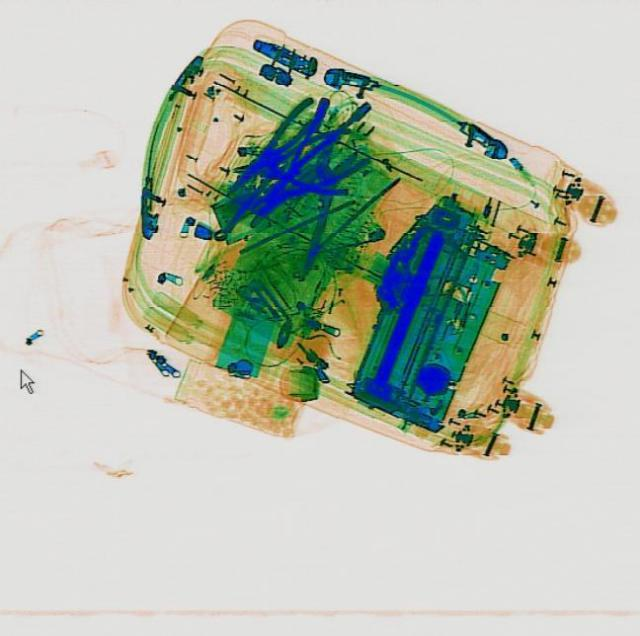Pliers: (242, 124, 371, 229), (215, 92, 328, 199)
Wrench: (211, 171, 265, 240)
